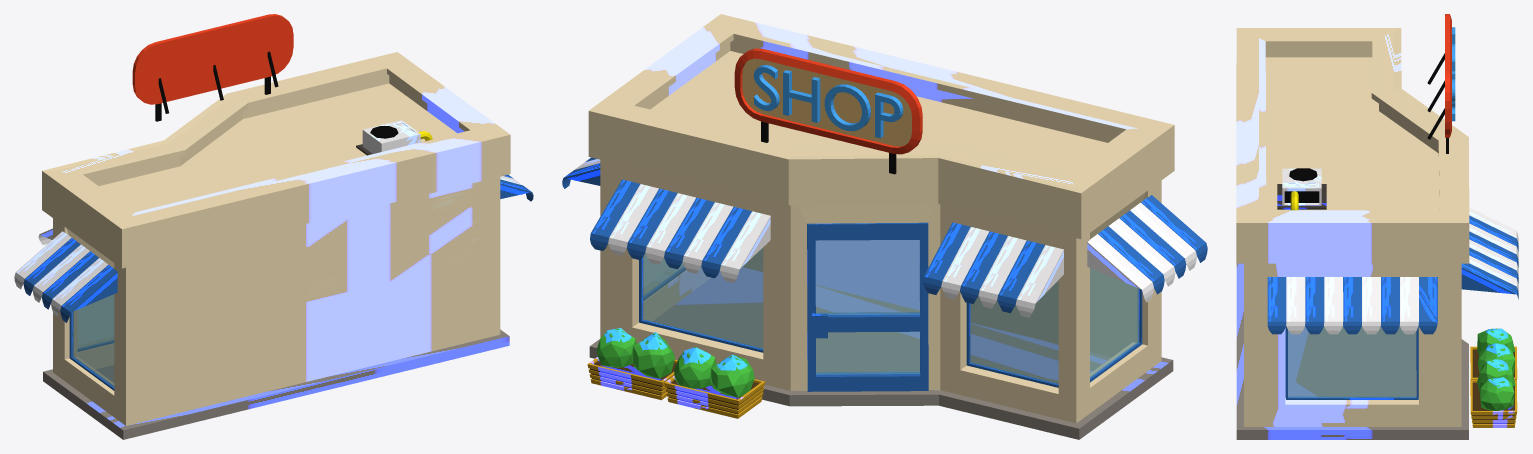
The model's file is shop-general-orange-a_night.glb.
3 views of the same model, side by side, from view 1: azimuth 30°, elevation 25°; view 2: azimuth 150°, elevation 25°; view 3: azimuth 270°, elevation 25° (orthographic). The views are drawn at different scales.
Visible parts, largest first — view 1: casa base, tetto, sign_2, base.001, tenda frontale facciata dx, finestra facciata dx, finestra dx, cassetta, sign_0, tenda frontale.001; view 2: casa base, base.001, porta, tetto, tenda frontale, finestra frontale sx, tenda frontale piccola, tenda frontale facciata dx, finestra dx, sign_1, finestra facciata dx, sign_2 (+9 smaller); view 3: casa base, tetto, base.001, tenda frontale.001, finestra sx, tenda frontale, vaso rettangolare sx 3, cassetta, Icosphere.003, sign_2, Icosphere, Icosphere.001 (+6 smaller).
Part boxes in pixels (bbox=[...]): casa base: bbox=[42, 52, 510, 425]; tetto: bbox=[99, 83, 457, 212]; sign_2: bbox=[132, 14, 293, 104]; base.001: bbox=[43, 329, 509, 439]; tenda frontale facciata dx: bbox=[14, 231, 117, 322]; finestra facciata dx: bbox=[69, 294, 114, 390]; finestra dx: bbox=[78, 295, 113, 351]; cassetta: bbox=[362, 120, 420, 153]; sign_0: bbox=[155, 51, 278, 121]; tenda frontale.001: bbox=[500, 174, 533, 201]; casa base: bbox=[588, 14, 1174, 423]; base.001: bbox=[589, 267, 1173, 439]; porta: bbox=[807, 222, 928, 391]; tetto: bbox=[650, 51, 1107, 173]; tenda frontale: bbox=[590, 179, 770, 282]; finestra frontale sx: bbox=[639, 248, 763, 352]; tenda frontale piccola: bbox=[923, 222, 1063, 317]; tenda frontale facciata dx: bbox=[1087, 195, 1207, 302]; finestra dx: bbox=[966, 280, 1058, 387]; sign_1: bbox=[742, 58, 911, 146]; finestra facciata dx: bbox=[1090, 268, 1142, 382]; sign_2: bbox=[734, 48, 922, 154]; casa base: bbox=[1236, 28, 1469, 426]; tetto: bbox=[1265, 57, 1439, 210]; base.001: bbox=[1236, 263, 1468, 439]; tenda frontale.001: bbox=[1267, 277, 1437, 334]; finestra sx: bbox=[1285, 326, 1418, 399]; tenda frontale: bbox=[1461, 207, 1518, 299]; vaso rettangolare sx 3: bbox=[1470, 379, 1517, 427]; cassetta: bbox=[1282, 168, 1321, 205]; Icosphere.003: bbox=[1480, 377, 1514, 410]; sign_2: bbox=[1445, 14, 1451, 137]; Icosphere: bbox=[1477, 359, 1515, 392]; Icosphere.001: bbox=[1477, 343, 1514, 374].
Size of the model in its own units: 7.67 by 4.52 by 3.89.
Materials: 18 (2 with a texture image).
